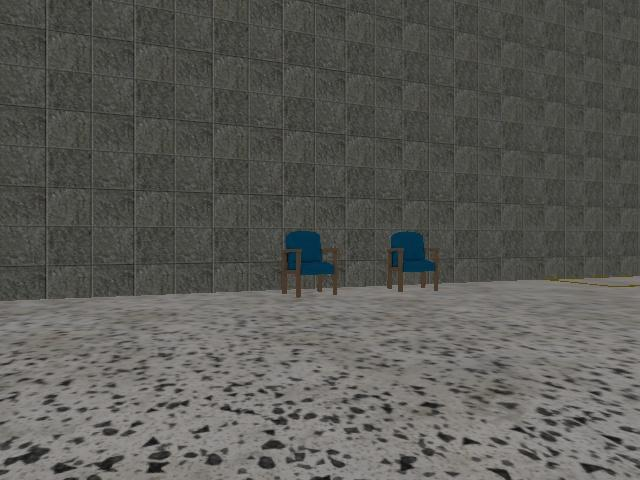chair: (281, 230, 339, 300), (387, 231, 440, 292)
